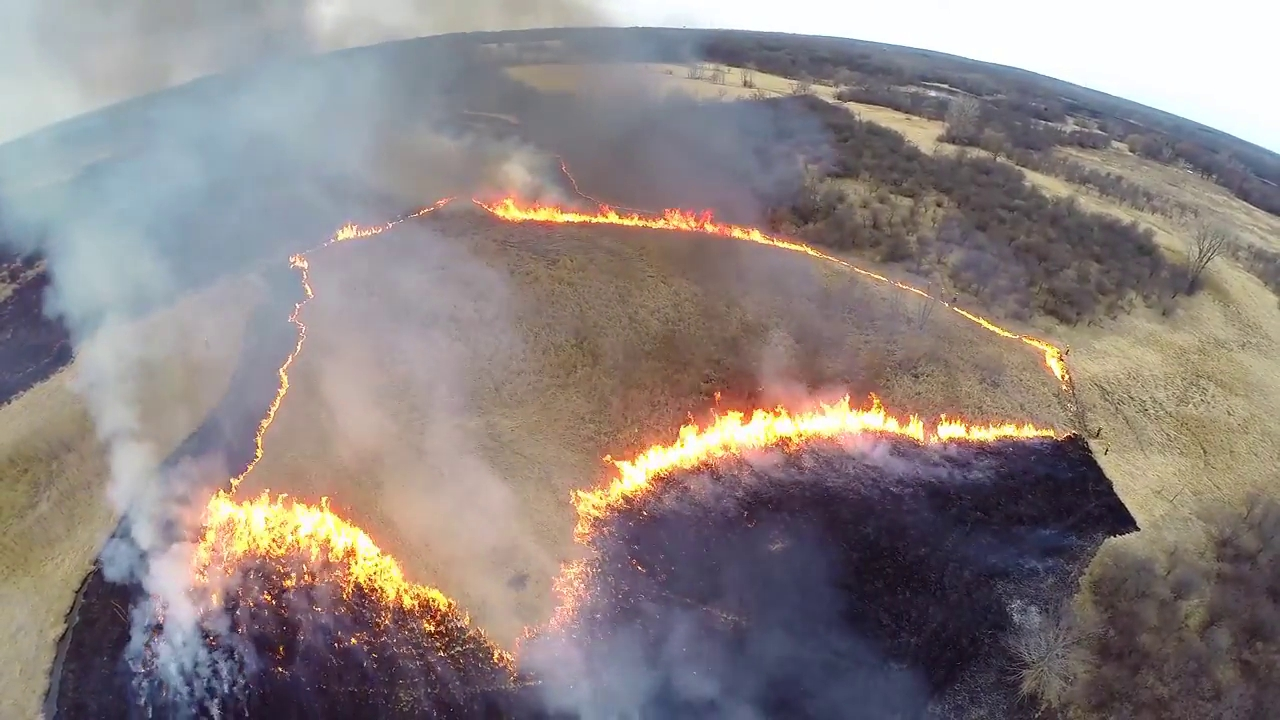forest_fire: (192, 250, 517, 686), (473, 198, 1070, 389), (572, 396, 1064, 544), (314, 199, 449, 247), (550, 562, 598, 626), (347, 634, 360, 642), (527, 628, 537, 634), (300, 592, 304, 596), (280, 649, 281, 652), (160, 608, 161, 610), (206, 597, 207, 599)
